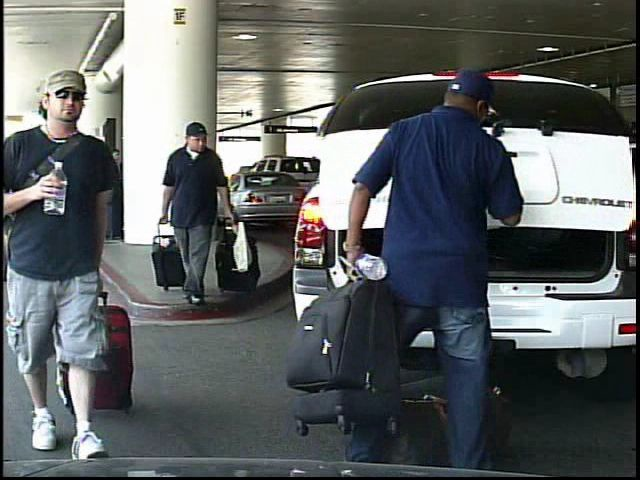person: (341, 74, 532, 475), (4, 69, 154, 470), (157, 116, 252, 307)
